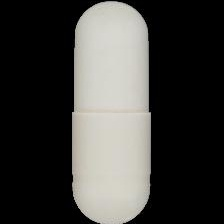64725-1021: (0, 0, 224, 224)
